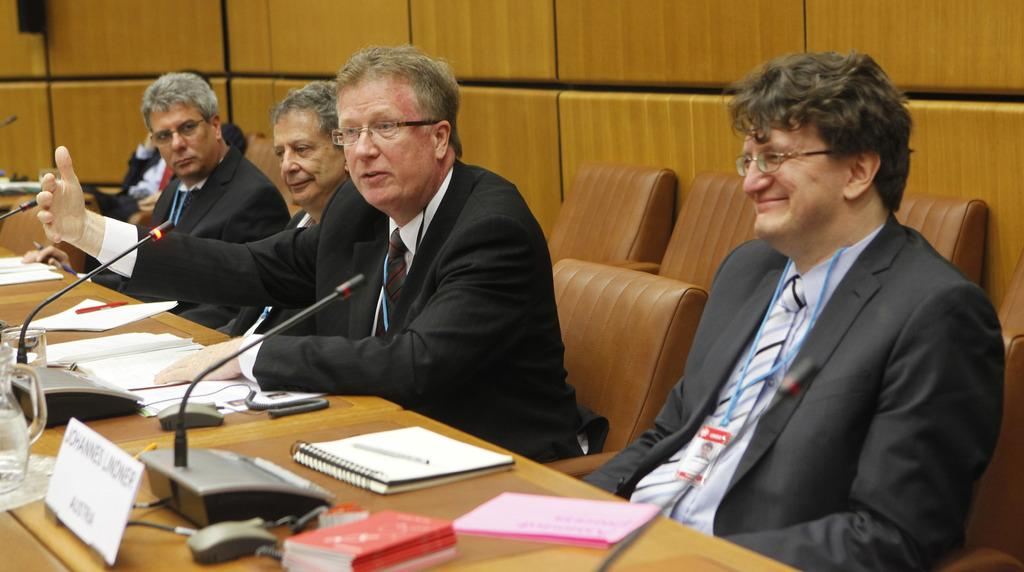Book: (290, 424, 515, 495), (452, 490, 663, 549)
Chair: (542, 257, 708, 479), (545, 161, 677, 271)
